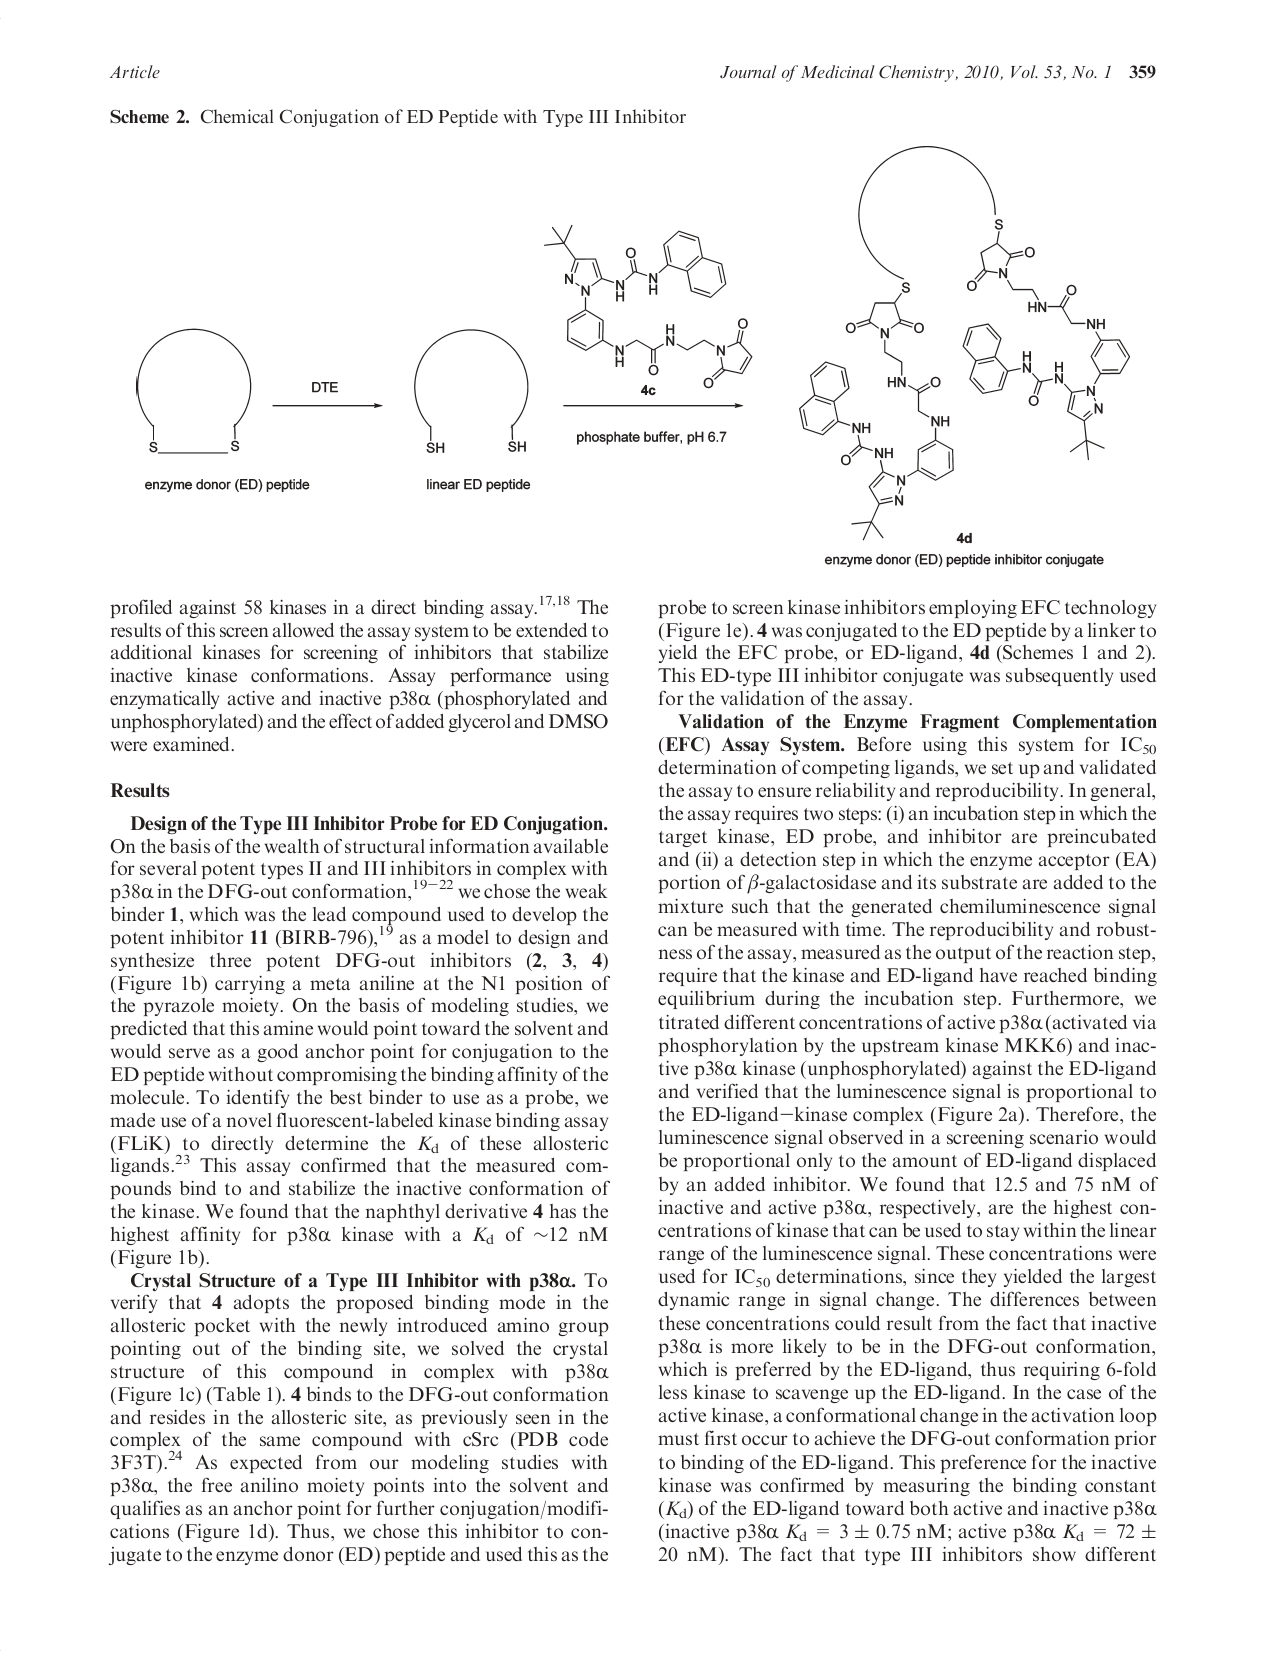exist_molecular: (956, 215, 1136, 461), (797, 281, 956, 541), (544, 222, 753, 391)
